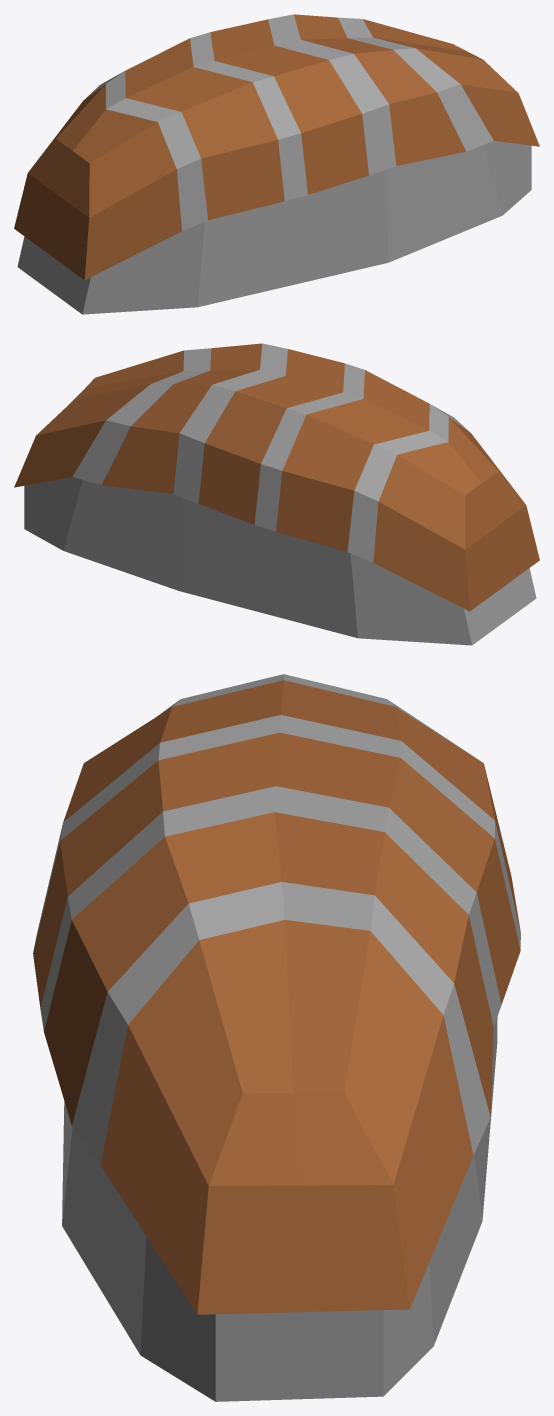
Rendered from Sushi_Nigiri1.glb.
3 renders of one model, top to bottom at view 1: azimuth 30°, elevation 25°; view 2: azimuth 150°, elevation 25°; view 3: azimuth 270°, elevation 25°, orthographic. The views are drawn at different scales.
Parts seen in each view (by area): view 1: Orange, White; view 2: Orange, White; view 3: Orange, White.
Part boxes in pixels (x1,y1,x2,y2): Orange: (14, 14, 539, 280); White: (17, 14, 531, 314); Orange: (14, 343, 539, 611); White: (24, 343, 536, 645); Orange: (33, 680, 520, 1314); White: (33, 674, 520, 1401).
Bounding box in the file's own units: 0.5976 × 0.2344 × 0.2716.
